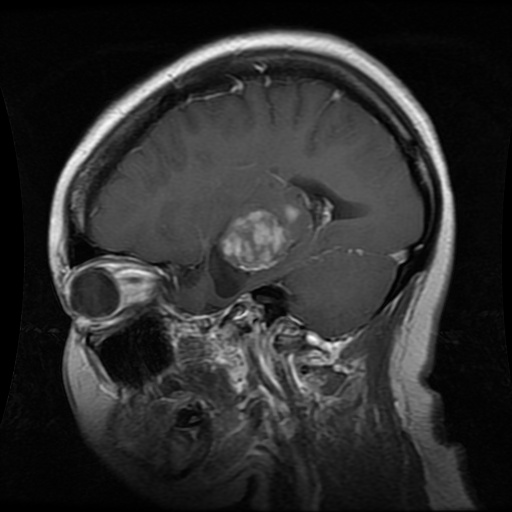glioma: (208, 210, 291, 300)
